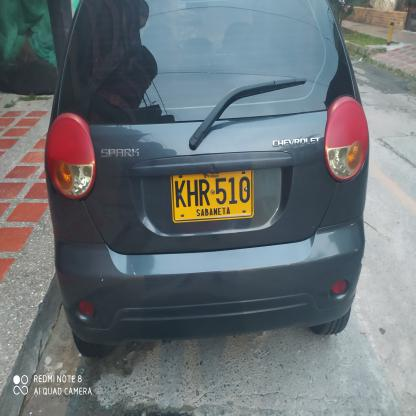placa: (163, 164, 260, 228)
